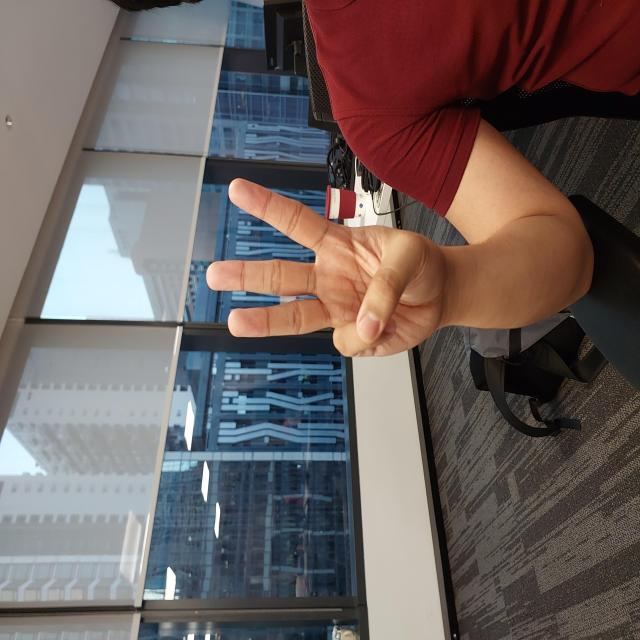W: (280, 205, 464, 445)
